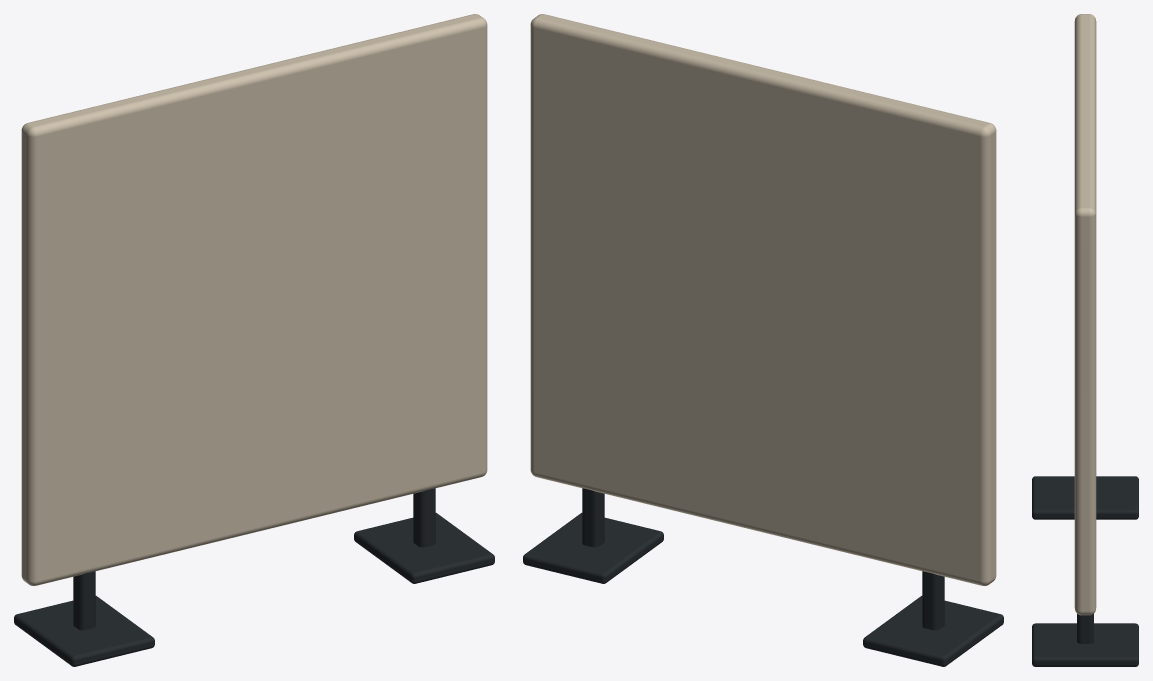
Rendered from separator-2.glb.
3 renders of one model, left to right at view 1: azimuth 30°, elevation 25°; view 2: azimuth 150°, elevation 25°; view 3: azimuth 270°, elevation 25°, orthographic. The views are drawn at different scales.
Visible parts, largest first — view 1: separator:2:archviz; view 2: separator:2:archviz; view 3: separator:2:archviz.
Part boxes in pixels (x1=…): separator:2:archviz: x1=14, y1=14, x2=494, y2=666; separator:2:archviz: x1=523, y1=14, x2=1003, y2=666; separator:2:archviz: x1=1032, y1=14, x2=1138, y2=666.
Bounding box in the file's own units: 1.1 × 1.2 × 0.2499.
